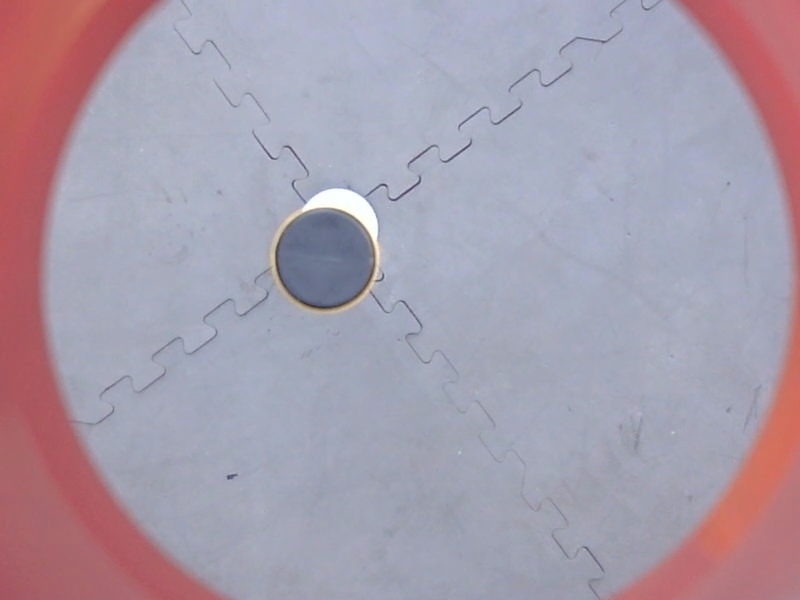tip: (264, 199, 387, 322)
